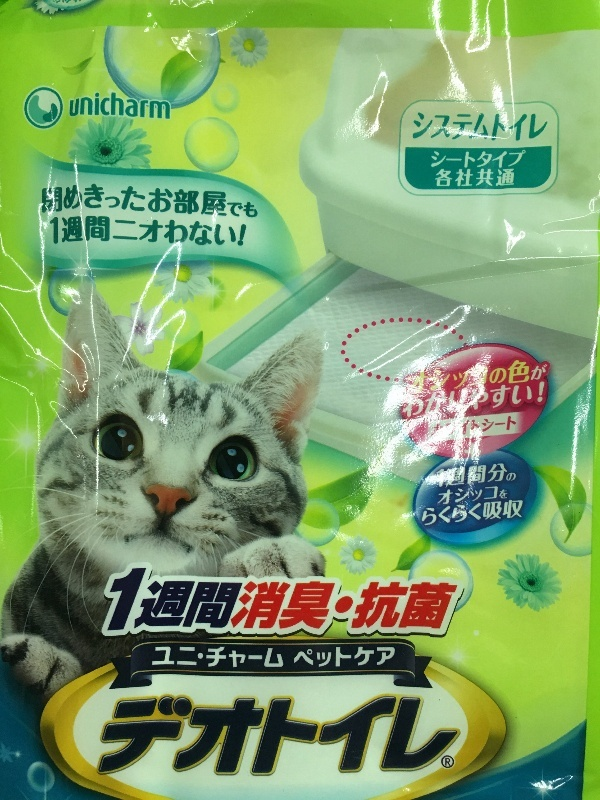text: (113, 694, 128, 780), (129, 694, 144, 780), (145, 694, 160, 780), (161, 694, 176, 780), (177, 694, 192, 780), (193, 694, 208, 780), (209, 694, 224, 780), (225, 694, 240, 780), (241, 694, 256, 780), (257, 694, 272, 780), (273, 694, 288, 780), (289, 694, 304, 780), (305, 694, 320, 780), (321, 694, 336, 780), (337, 694, 352, 780), (353, 694, 368, 780), (369, 694, 384, 780), (385, 694, 400, 780), (401, 694, 416, 780), (417, 694, 432, 780), (433, 694, 448, 780), (449, 694, 464, 780), (113, 559, 128, 642), (129, 559, 144, 642), (161, 574, 176, 639), (177, 574, 192, 639), (193, 574, 208, 639), (209, 574, 224, 639), (225, 574, 240, 639), (241, 574, 256, 639), (257, 574, 272, 639), (273, 574, 288, 639), (289, 574, 304, 639), (305, 574, 320, 639), (321, 574, 336, 639), (369, 578, 384, 638), (385, 578, 400, 638), (401, 578, 416, 638), (417, 578, 432, 638), (433, 578, 448, 638), (449, 578, 462, 638), (145, 559, 154, 642), (81, 86, 96, 130), (97, 86, 112, 130), (113, 86, 128, 130), (129, 86, 144, 130), (145, 86, 160, 130), (161, 86, 175, 130), (49, 214, 64, 255), (65, 214, 80, 255), (81, 214, 96, 255), (97, 214, 112, 255), (113, 214, 128, 255), (129, 214, 144, 255), (145, 214, 160, 255), (161, 214, 176, 255), (177, 214, 192, 255), (193, 214, 208, 255), (209, 214, 224, 255), (225, 214, 240, 255), (417, 358, 432, 398), (433, 358, 448, 398), (449, 358, 464, 398), (465, 358, 480, 398), (481, 358, 496, 398), (497, 358, 512, 398), (513, 358, 528, 398), (151, 574, 160, 639), (67, 86, 80, 130), (49, 183, 64, 219), (65, 183, 80, 219), (81, 183, 96, 219), (97, 183, 112, 219), (113, 183, 128, 219), (129, 183, 144, 219), (145, 183, 160, 219), (161, 183, 176, 219), (177, 183, 192, 219), (193, 183, 208, 219), (209, 183, 224, 219), (417, 110, 432, 144), (433, 110, 448, 144), (449, 110, 464, 144), (465, 110, 480, 144), (481, 110, 496, 144), (497, 110, 512, 144), (513, 110, 528, 144), (529, 110, 544, 144), (481, 383, 496, 416), (497, 383, 512, 416), (513, 383, 528, 416), (529, 383, 544, 416), (161, 642, 176, 675), (177, 642, 192, 675), (305, 642, 320, 674), (321, 642, 336, 674), (337, 642, 352, 674), (353, 642, 368, 674), (369, 642, 384, 674), (433, 498, 448, 528), (449, 498, 464, 528), (465, 498, 480, 528), (481, 498, 496, 528), (497, 498, 512, 528), (417, 389, 432, 418), (433, 389, 448, 418), (449, 389, 464, 418), (241, 196, 256, 224), (433, 147, 448, 175), (449, 147, 464, 175), (465, 147, 480, 175), (481, 147, 496, 175), (497, 147, 512, 175), (513, 147, 528, 175), (449, 462, 464, 490), (465, 462, 480, 490), (481, 462, 496, 490), (209, 644, 224, 672), (225, 644, 240, 672), (241, 644, 256, 672), (257, 644, 272, 672), (385, 642, 398, 674), (241, 214, 251, 255), (465, 413, 480, 439), (481, 413, 496, 439), (497, 413, 512, 439), (292, 642, 304, 674), (404, 389, 416, 418), (449, 166, 464, 189), (465, 166, 480, 189), (481, 166, 496, 189), (497, 166, 512, 189), (108, 694, 112, 780), (465, 694, 469, 780), (436, 462, 448, 490), (273, 644, 285, 672), (470, 383, 480, 416), (513, 498, 524, 528), (449, 486, 464, 507), (465, 486, 480, 507), (481, 486, 496, 507), (497, 462, 508, 490), (422, 498, 432, 528), (363, 578, 368, 638), (409, 358, 416, 398), (436, 166, 448, 189), (433, 421, 448, 439), (533, 360, 544, 384), (193, 642, 201, 675), (41, 183, 48, 219), (231, 196, 240, 224), (109, 559, 112, 642), (153, 642, 160, 675), (449, 421, 461, 439), (438, 486, 448, 507), (337, 574, 340, 639), (545, 110, 550, 144), (225, 183, 229, 219), (500, 488, 512, 500), (412, 110, 416, 144), (545, 360, 550, 384), (465, 389, 469, 418), (529, 147, 533, 175), (441, 754, 448, 769), (513, 413, 517, 439), (257, 196, 260, 224), (529, 358, 531, 398), (449, 754, 454, 769), (506, 471, 512, 483), (513, 166, 516, 189), (513, 471, 518, 483), (430, 147, 432, 175), (206, 644, 208, 672), (462, 413, 464, 439), (497, 486, 499, 507), (545, 383, 546, 416)
